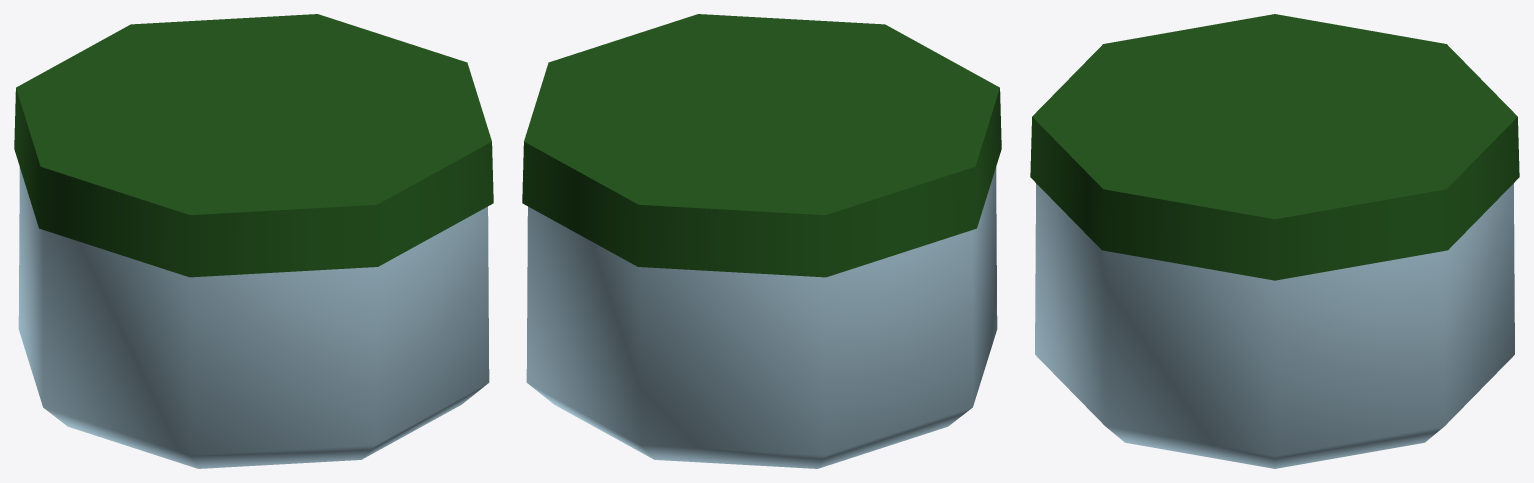
File: lotion_cylinder.fbx
The picture shows the model from 3 angles, left to right: view 1: azimuth 30°, elevation 25°; view 2: azimuth 150°, elevation 25°; view 3: azimuth 270°, elevation 25°; orthographic projection.
Visible parts, largest first — view 1: lotion_cylinder_cap.001, lotion_cylinder.001; view 2: lotion_cylinder_cap.001, lotion_cylinder.001; view 3: lotion_cylinder_cap.001, lotion_cylinder.001.
Boxes of the visible parts, box(x1,y1,x2,y2) form: lotion_cylinder_cap.001: box(14, 14, 493, 277); lotion_cylinder.001: box(18, 167, 489, 468); lotion_cylinder_cap.001: box(522, 14, 1001, 277); lotion_cylinder.001: box(526, 167, 997, 468); lotion_cylinder_cap.001: box(1030, 14, 1519, 280); lotion_cylinder.001: box(1035, 183, 1514, 468).
Bounding box in the file's own units: 2214 × 1312 × 2214.
1 material, 1 textured.
